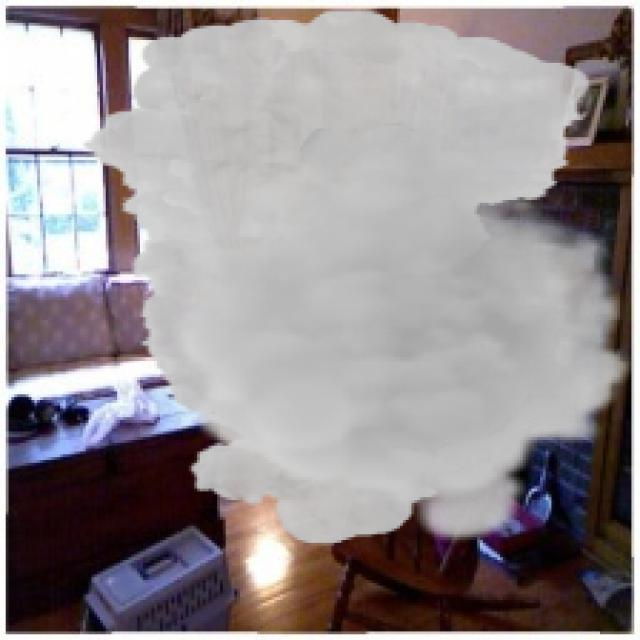Smoke: (80, 8, 634, 546)
